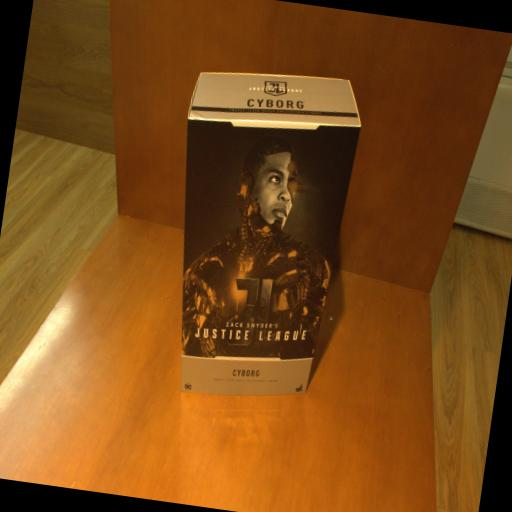Cyborg: (150, 60, 366, 412)
